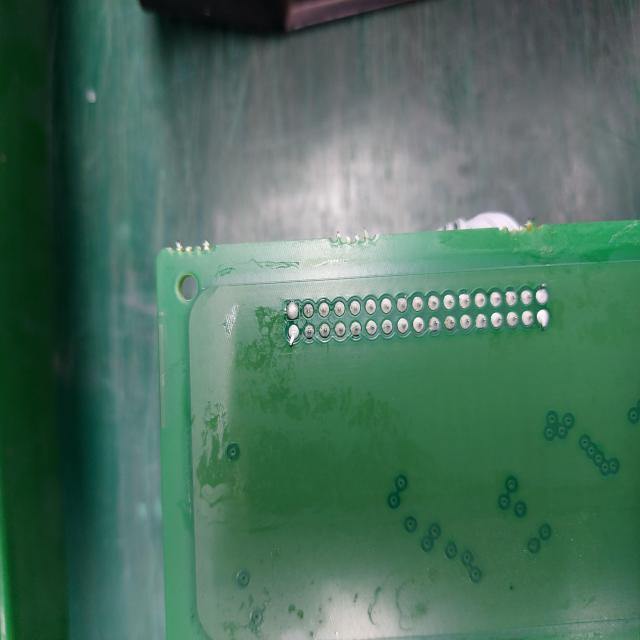redundant: (286, 302, 299, 320)
